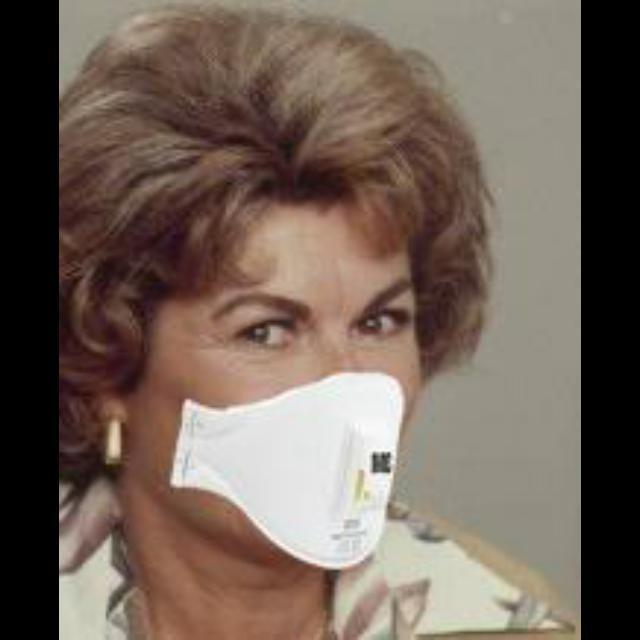suspicion: (114, 105, 436, 612)
